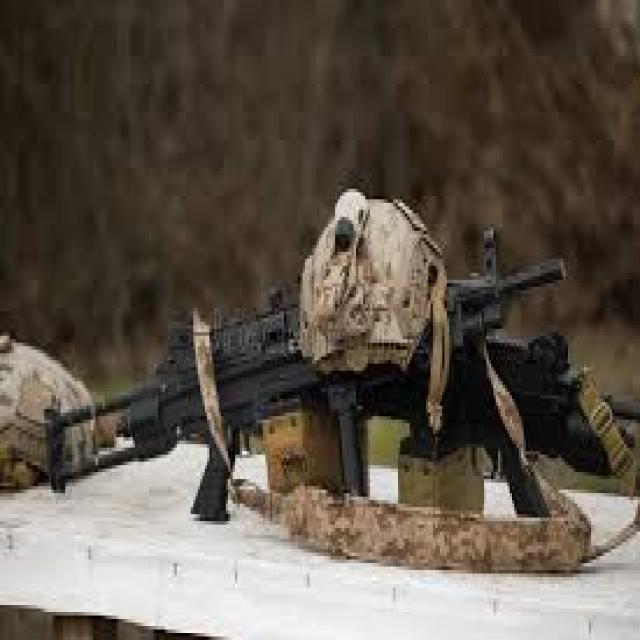gun: (23, 216, 583, 540)
